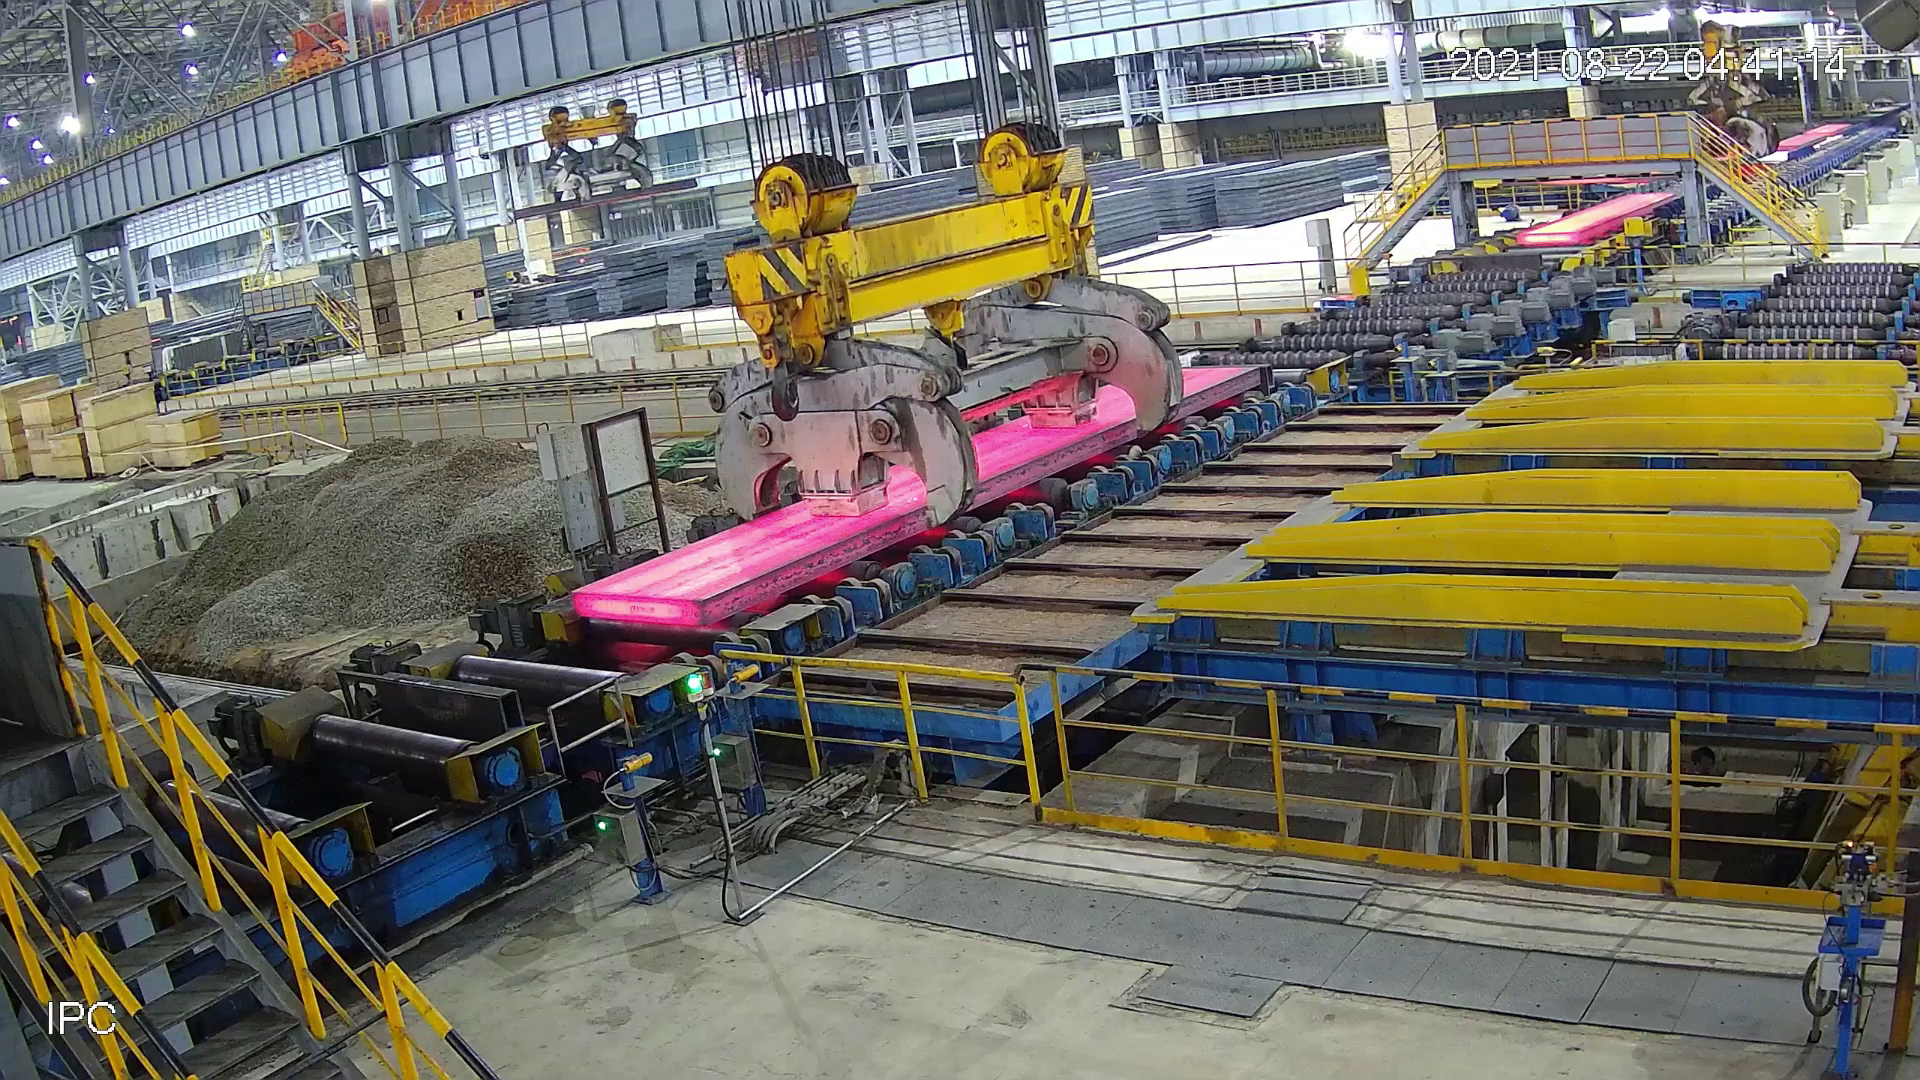crane: (698, 113, 1200, 526)
craneandslab: (1681, 18, 1782, 170)
slab: (555, 359, 1273, 630), (1510, 194, 1677, 251)
